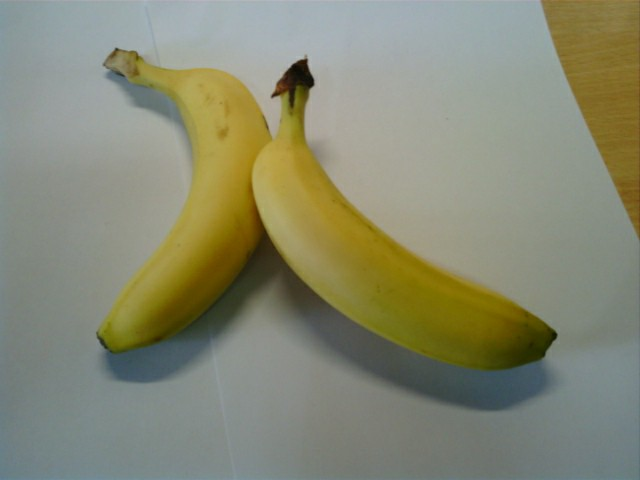fresh_banana: (253, 119, 556, 373), (94, 59, 272, 352)
